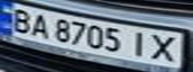0: (84, 22, 106, 51)
5: (103, 25, 127, 54)
7: (66, 19, 87, 47)
8: (48, 16, 72, 44)
A: (27, 11, 54, 38)
B: (6, 6, 36, 34)
I: (124, 28, 154, 58)
X: (145, 31, 184, 64)
